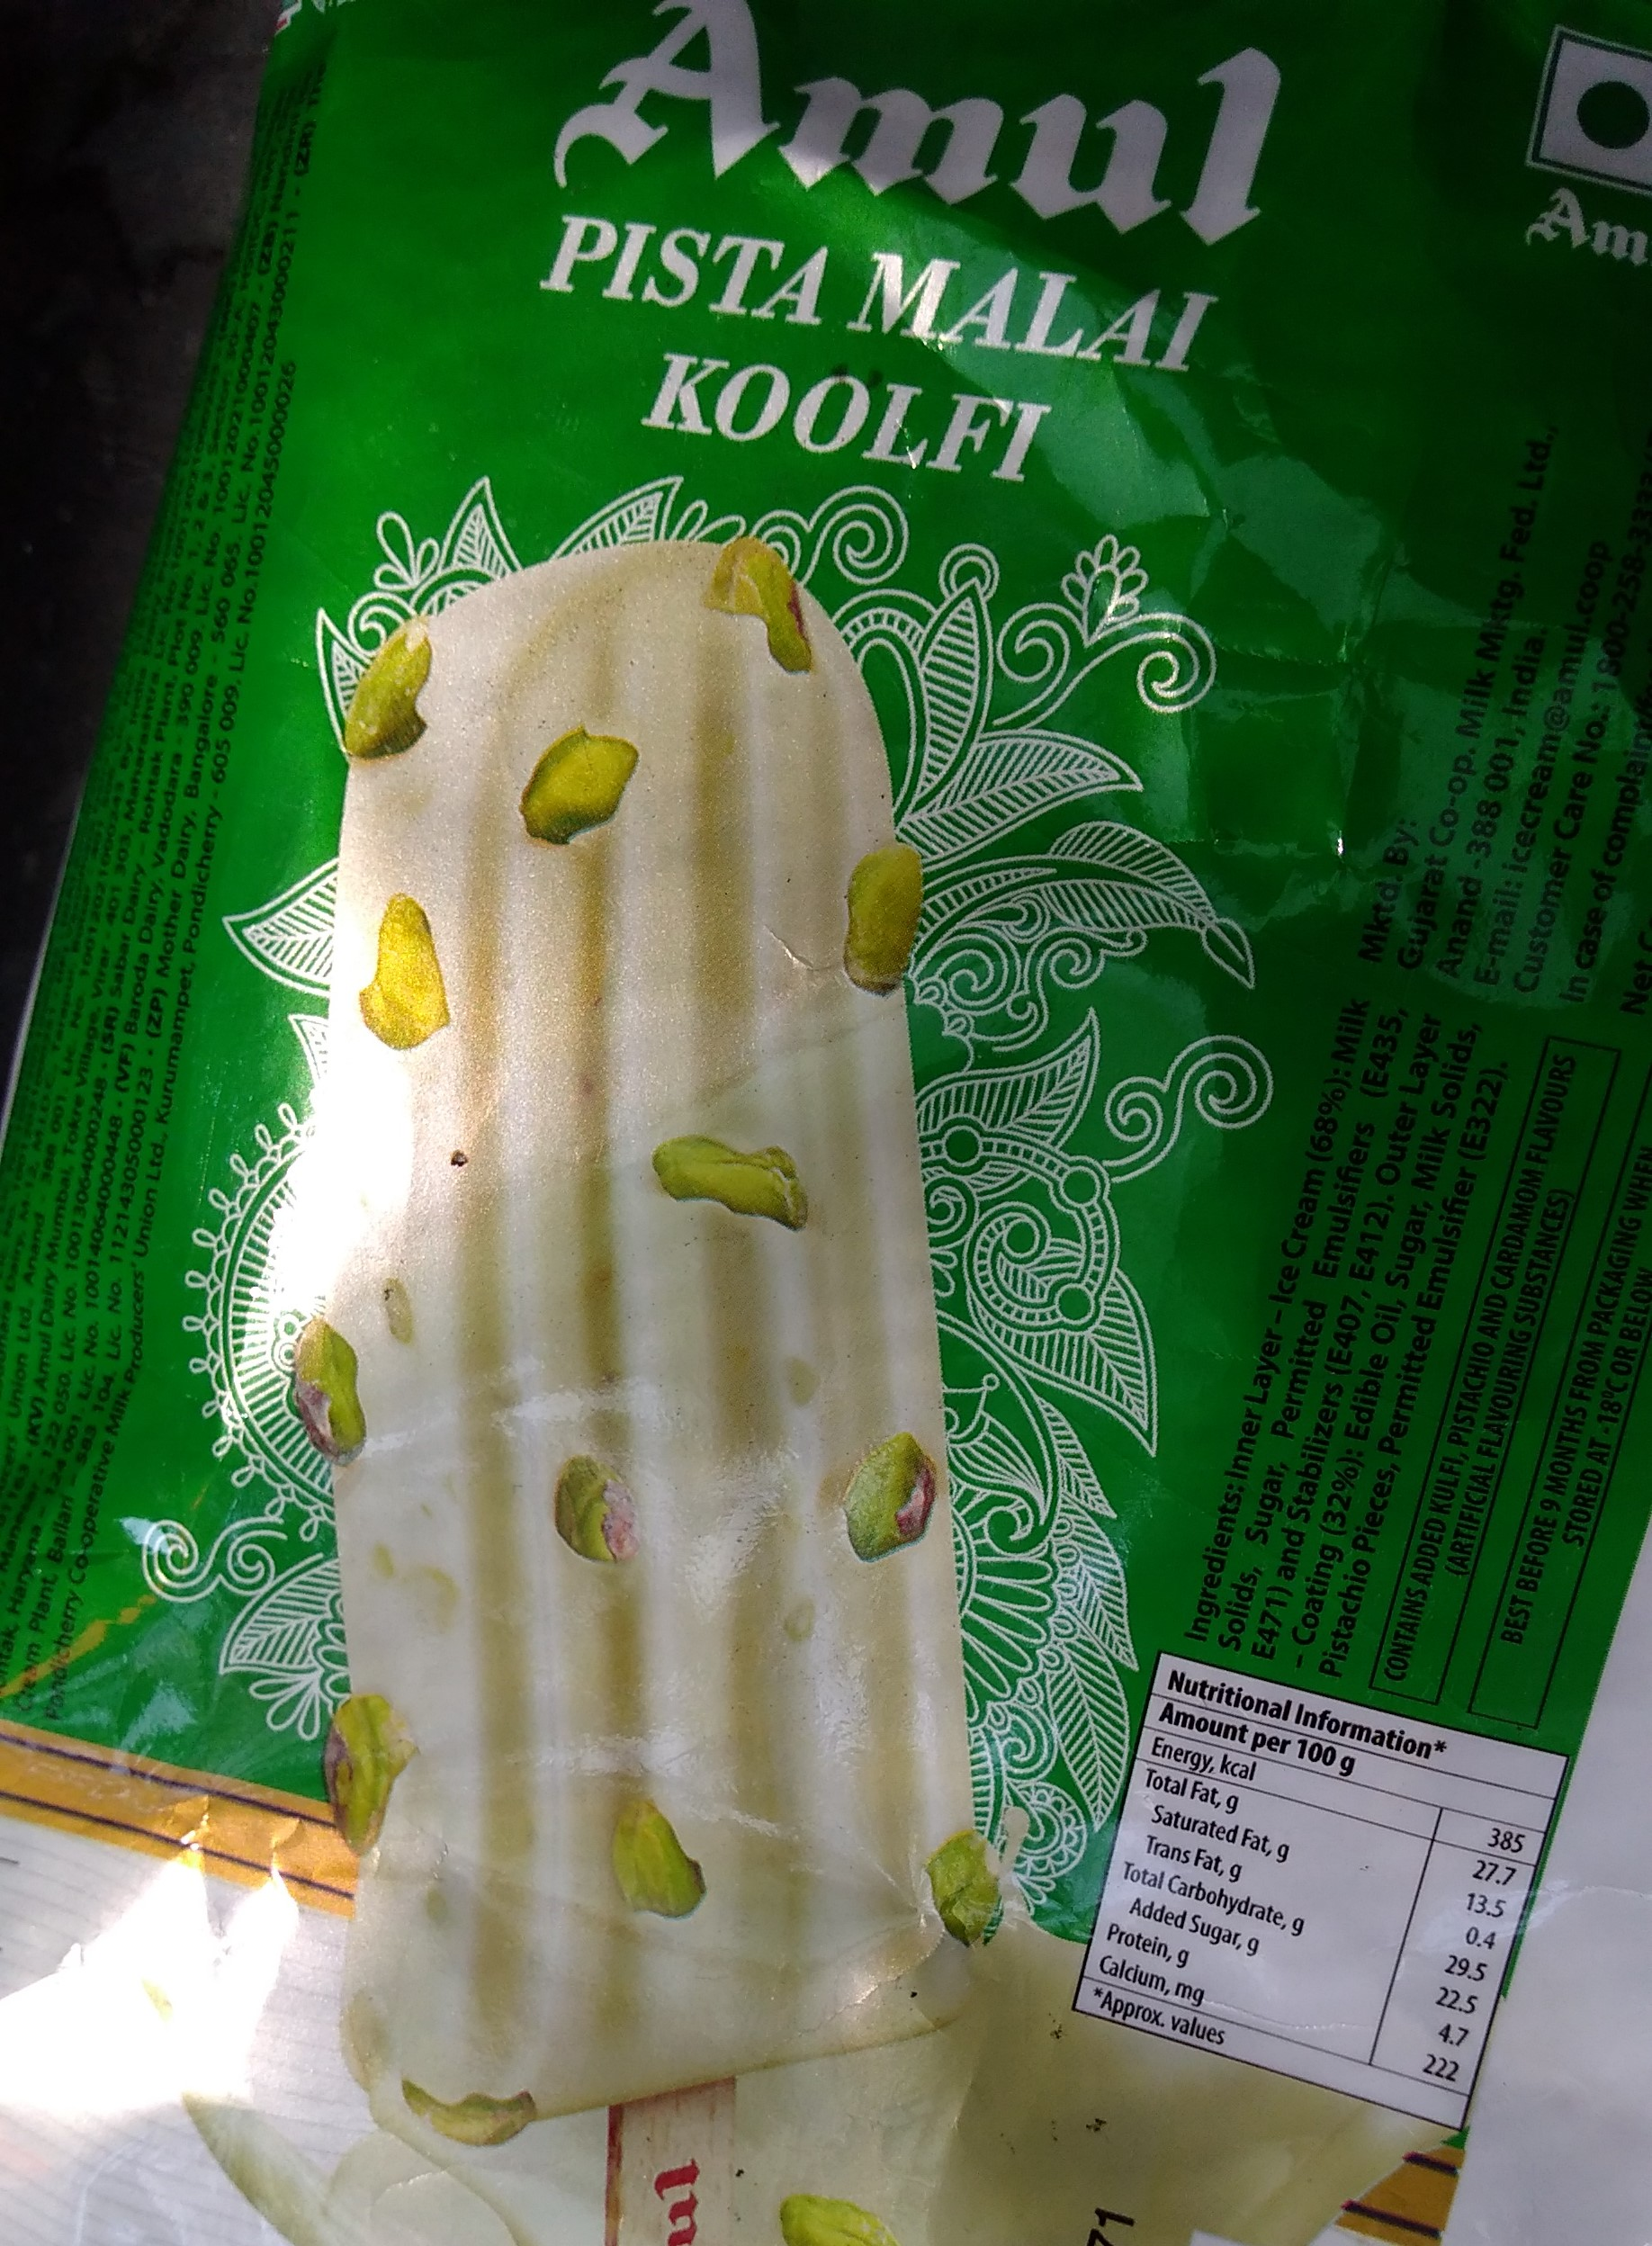VEG: (1537, 24, 1652, 199)
